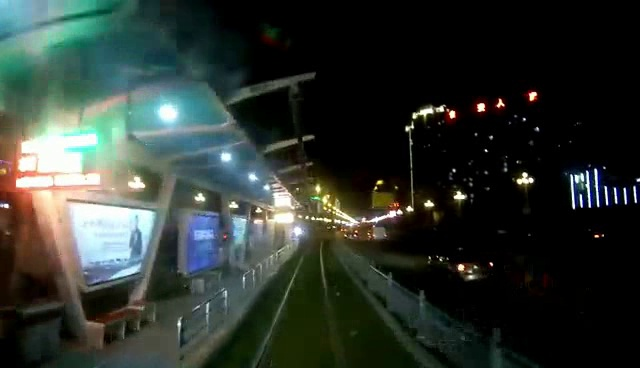car: (427, 244, 493, 282), (365, 223, 391, 245)
